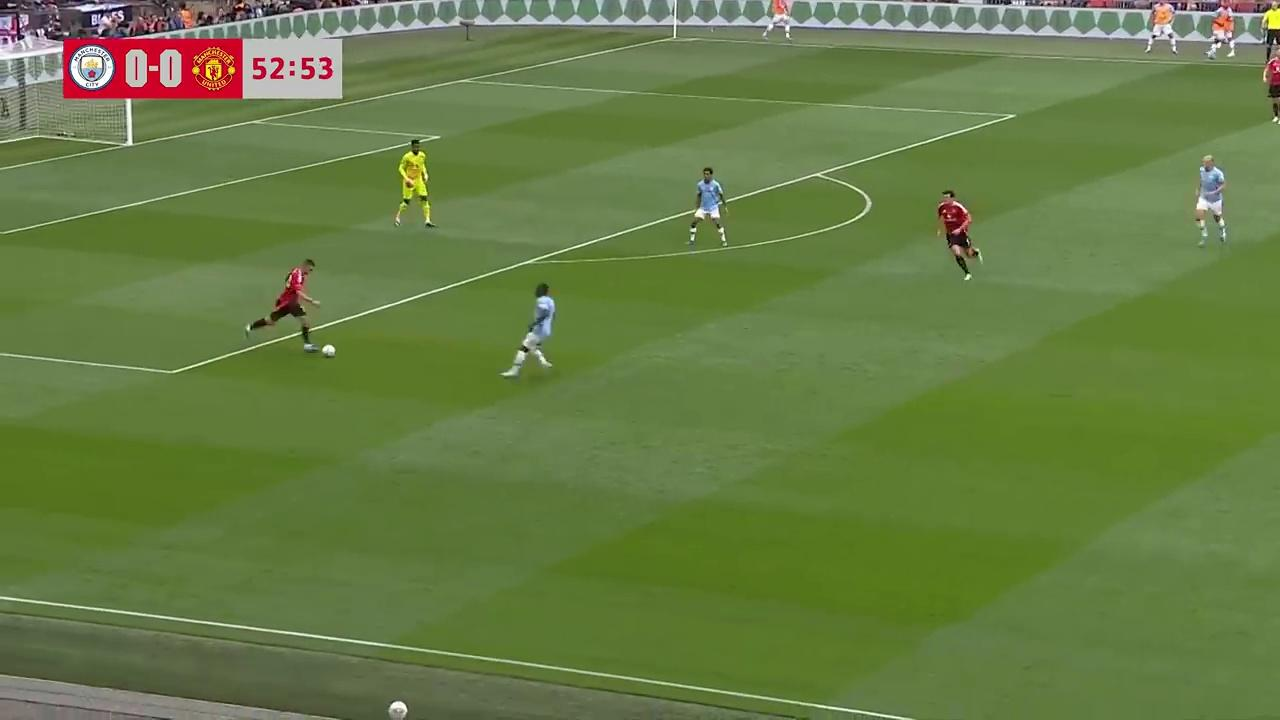ball: (321, 341, 337, 358)
player: (252, 259, 320, 352), (501, 282, 556, 379), (935, 189, 982, 277), (686, 166, 728, 249), (394, 143, 435, 228), (1194, 155, 1228, 247), (1262, 55, 1279, 124)
referee: (1260, 0, 1280, 66)
